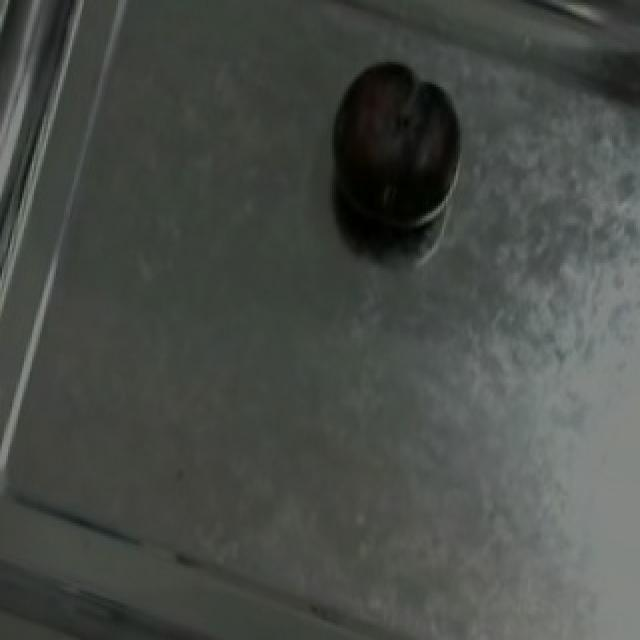Fruit: (316, 45, 474, 248)
